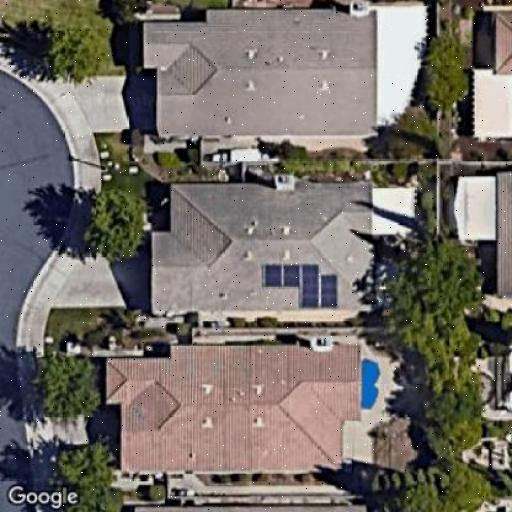solar-panel: (258, 262, 342, 310)
